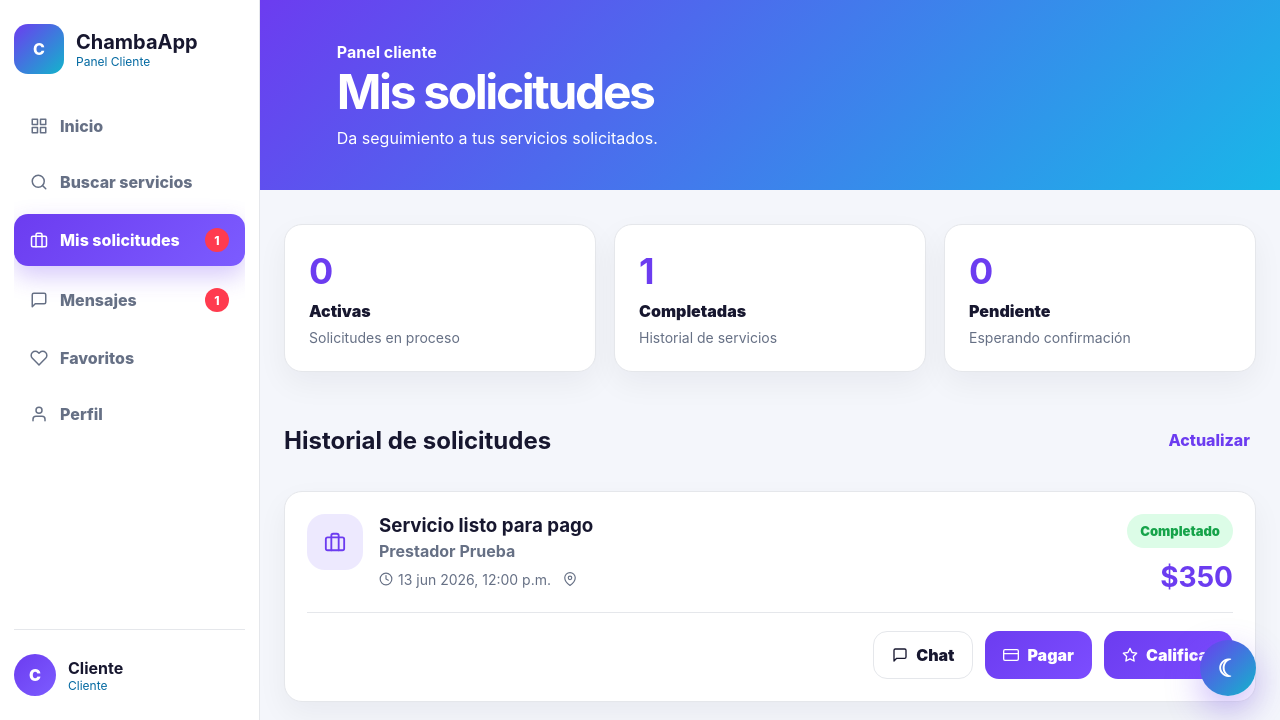
Test: Flujo de Pago — Cliente › un pago rechazado debe mostrar mensaje de error al usuario
The width and height of the screenshot is (1280, 720).
Click the button "Pagar" at (1040, 655), box 986,631 -> 1093,679
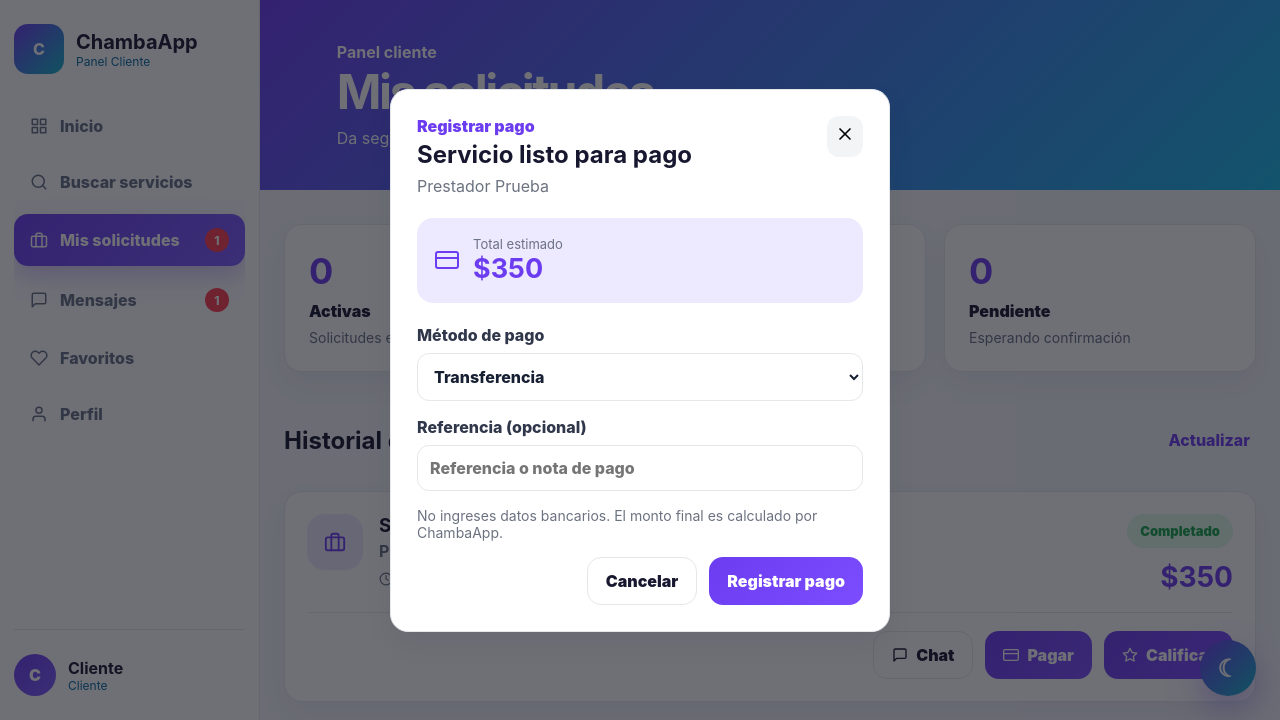
Click the button "Registrar pago" at (786, 581), box 709,557 -> 863,605
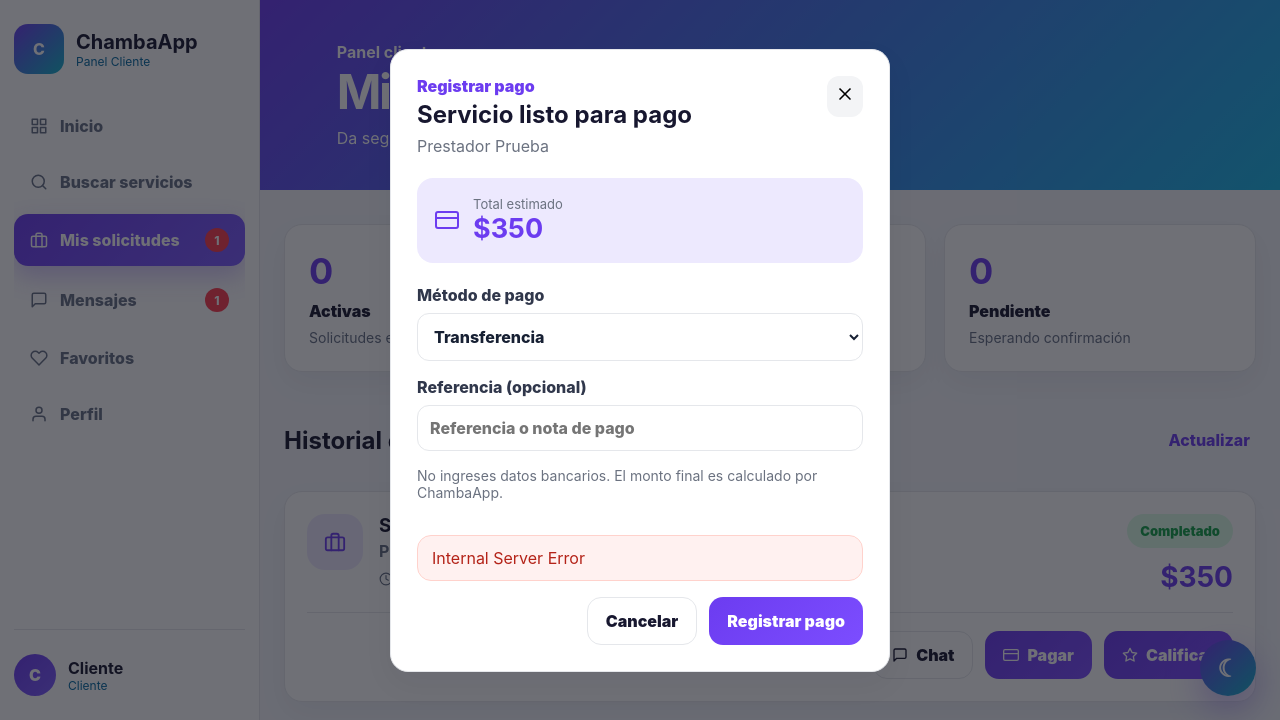
Check: the text "Internal Server Error" is shown, box 417,534 -> 863,580
